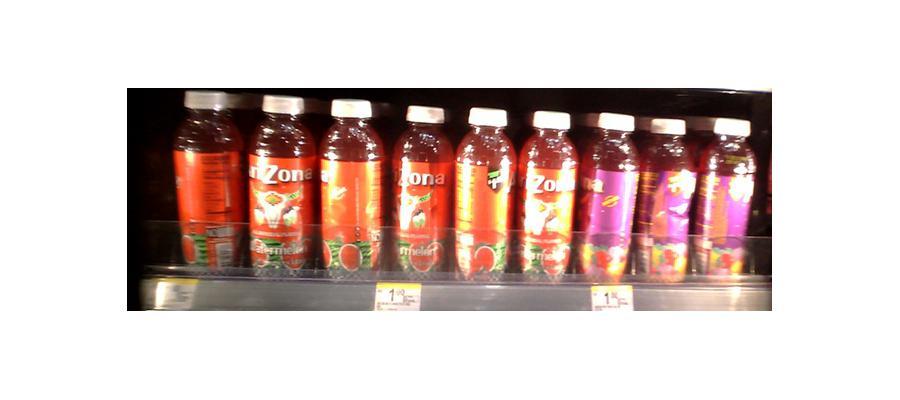bottle: (173, 83, 243, 273), (247, 90, 314, 278), (320, 95, 384, 276), (391, 102, 451, 279), (516, 107, 576, 280), (455, 105, 513, 281), (579, 111, 636, 283), (698, 116, 754, 282), (638, 115, 692, 282)
